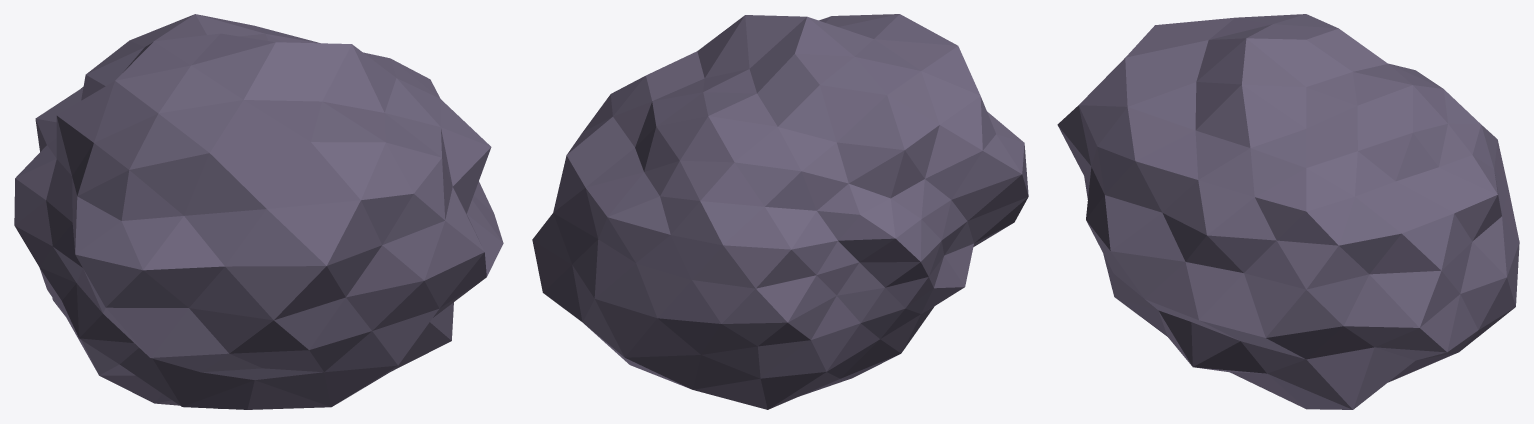
The model's file is SM_Asteroid_03.fbx.
3 renders of one model, left to right at view 1: azimuth 30°, elevation 25°; view 2: azimuth 150°, elevation 25°; view 3: azimuth 270°, elevation 25°, orthographic. The views are drawn at different scales.
Visible parts, largest first — view 1: SM_Asteroid_03; view 2: SM_Asteroid_03; view 3: SM_Asteroid_03.
Part boxes in pixels (x1,y1,x2,y2): SM_Asteroid_03: (14, 14, 503, 409); SM_Asteroid_03: (532, 14, 1028, 409); SM_Asteroid_03: (1057, 14, 1519, 409).
Size of the model in its own units: 0.9735 by 0.7958 by 1.
